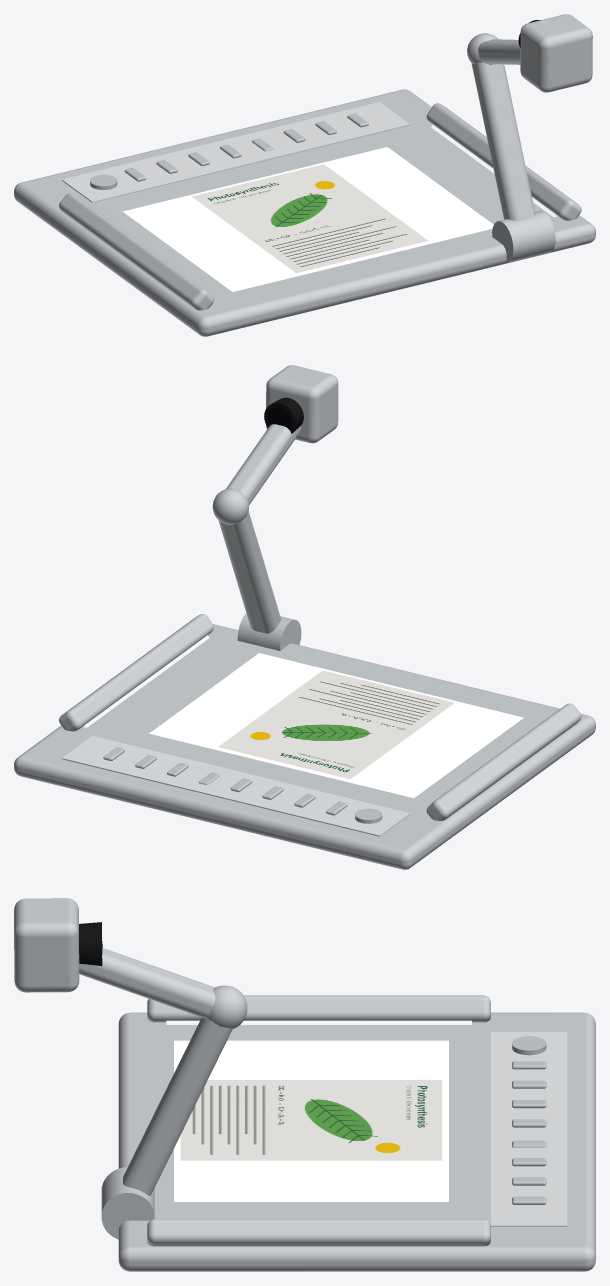
The model's file is visualizer.glb.
The picture shows the model from 3 angles, top to bottom: view 1: azimuth 30°, elevation 25°; view 2: azimuth 150°, elevation 25°; view 3: azimuth 270°, elevation 25°; orthographic projection. The views are drawn at different scales.
Visible parts, largest first — view 1: visualizer, object 7, object 10, object 2, object 4, object 6, object 9, object 5, object 8; view 2: visualizer, object 2, object 4, object 7, object 10, object 9, object 6, object 8; view 3: visualizer, object 4, object 2, object 7, object 10, object 9, object 6, object 3, object 8, object 16.
Part boxes in pixels (box(x1,y1,x2,y2)): visualizer: box(14, 89, 595, 336); object 7: box(471, 62, 535, 220); object 10: box(520, 14, 592, 92); object 2: box(59, 193, 213, 310); object 4: box(426, 103, 581, 220); object 6: box(492, 210, 555, 262); object 9: box(478, 39, 520, 64); object 5: box(431, 125, 557, 217); object 8: box(467, 33, 498, 64); visualizer: box(14, 624, 595, 869); object 2: box(426, 703, 581, 820); object 4: box(59, 614, 213, 731); object 7: box(218, 511, 281, 633); object 10: box(266, 365, 338, 443); object 9: box(226, 424, 300, 504); object 6: box(237, 613, 301, 650); object 8: box(212, 488, 248, 524); visualizer: box(118, 1012, 595, 1271); object 4: box(147, 1219, 490, 1246); object 2: box(147, 995, 490, 1022); object 7: box(123, 1017, 232, 1195); object 10: box(14, 898, 79, 992); object 9: box(79, 948, 215, 1018); object 6: box(101, 1167, 154, 1239); object 3: box(166, 1020, 471, 1024); object 8: box(207, 985, 247, 1028); object 16: box(79, 922, 102, 965).
Bounding box in the file's own units: 0.42 × 0.2598 × 0.4267.
9 materials, 1 textured.
